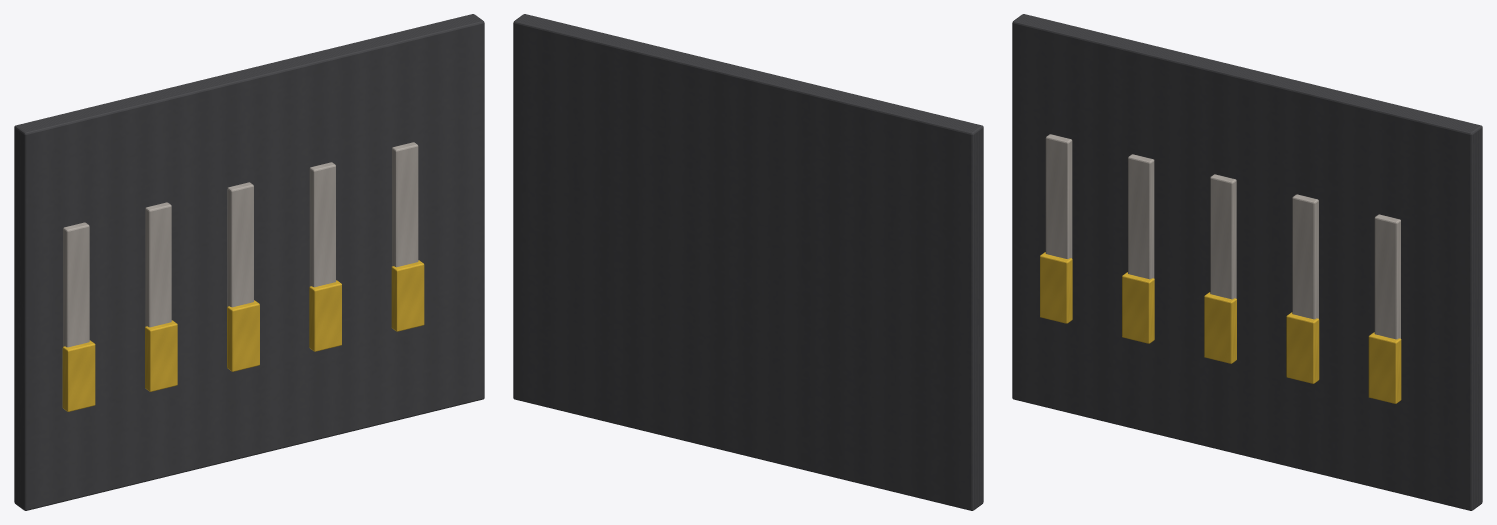
Rendered from tool_board.glb.
3 renders of one model, left to right at view 1: azimuth 30°, elevation 25°; view 2: azimuth 150°, elevation 25°; view 3: azimuth 330°, elevation 25°, orthographic.
Visible parts, largest first — view 1: board.001, MESH_MAT_Painted_Ivory.195, MESH_MAT_Safety_Yellow.067; view 2: board.001; view 3: board.001, MESH_MAT_Painted_Ivory.195, MESH_MAT_Safety_Yellow.067.
Part boxes in pixels (x1,y1,x2,y2): board.001: [14, 14, 484, 510]; MESH_MAT_Painted_Ivory.195: [63, 142, 418, 347]; MESH_MAT_Safety_Yellow.067: [62, 260, 424, 411]; board.001: [513, 14, 983, 510]; board.001: [1012, 14, 1482, 510]; MESH_MAT_Painted_Ivory.195: [1045, 134, 1400, 339]; MESH_MAT_Safety_Yellow.067: [1040, 252, 1401, 403].
Size of the model in its own units: 1.4 by 1.1 by 0.1.
Materials: 3 (3 with a texture image).
